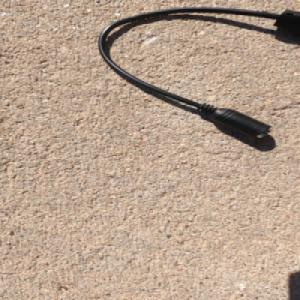Wire: (96, 5, 300, 140)
